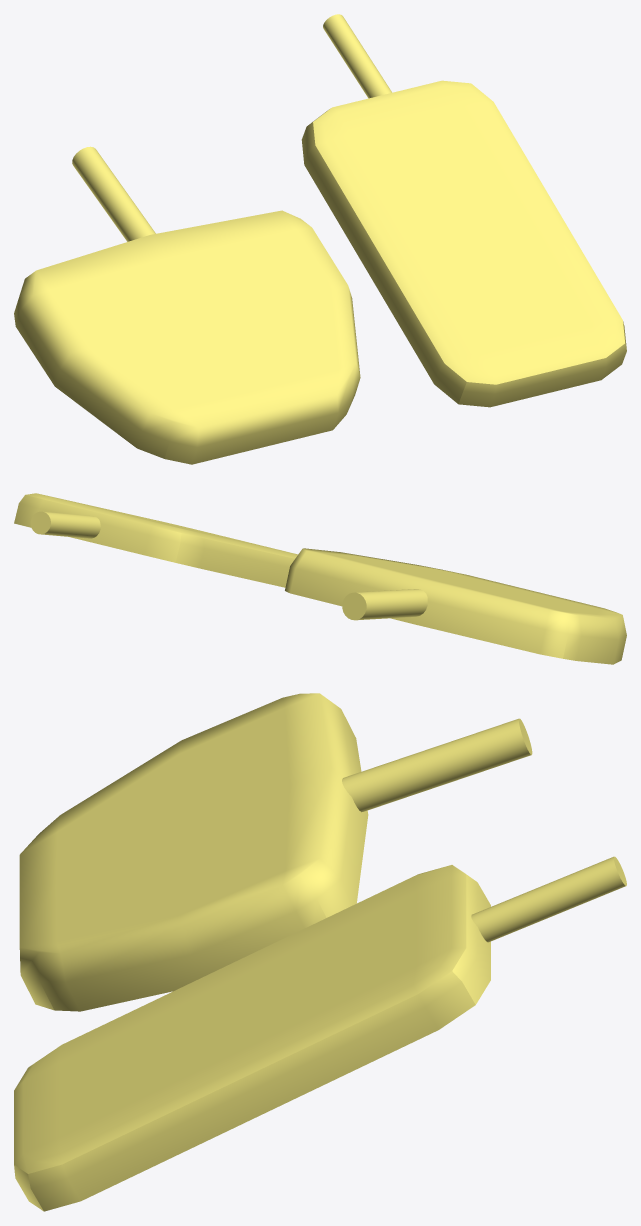
File: CarPedal.fbx
3 renders of one model, top to bottom at view 1: azimuth 30°, elevation 25°; view 2: azimuth 150°, elevation 25°; view 3: azimuth 270°, elevation 25°, orthographic. The views are drawn at different scales.
Visible parts, largest first — view 1: CarPedals_Body; view 2: CarPedals_Body; view 3: CarPedals_Body.
Part boxes in pixels (x1=…): CarPedals_Body: x1=14, y1=14, x2=626, y2=464; CarPedals_Body: x1=14, y1=493, x2=626, y2=664; CarPedals_Body: x1=14, y1=693, x2=626, y2=1211.
Size of the model in its own units: 24.7 by 10.12 by 18.29.
